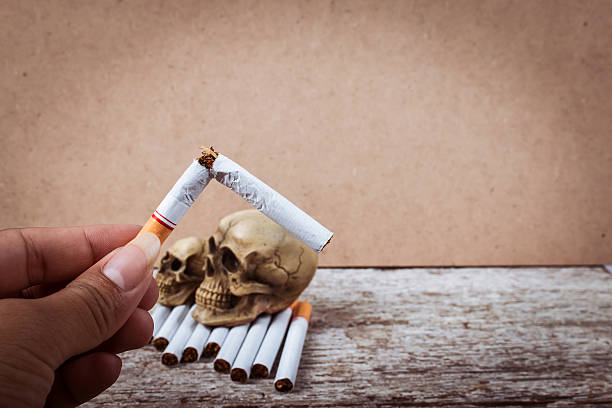cigarette: (205, 152, 334, 252), (142, 156, 214, 250), (273, 299, 316, 393), (250, 298, 298, 378), (231, 314, 271, 382), (161, 303, 202, 368), (212, 321, 250, 376), (151, 304, 191, 352), (181, 320, 212, 363), (147, 304, 172, 340), (205, 326, 229, 355)
